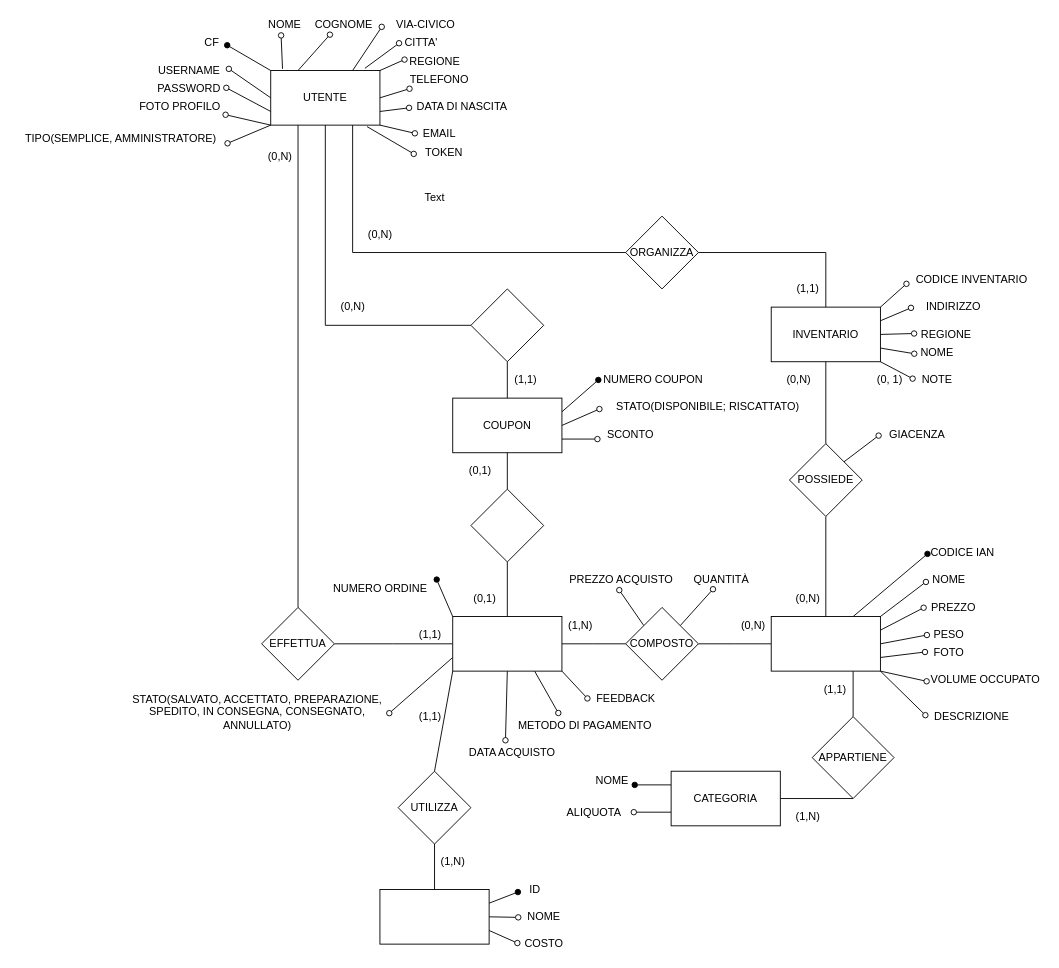
Image size: 1059x968. Some labels were removed from this diagram. Here are the shapes that lost their labels. From the top down, the box of each, then its label:
(470, 288, 544, 362): GESTISCE
(470, 488, 544, 562): APPLICA
(452, 616, 562, 671): ORDINE
(770, 616, 880, 671): PRODOTTO
(379, 889, 489, 944): SPEDIZIONE
